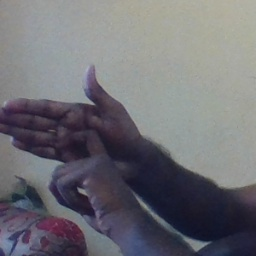R: (1, 54, 135, 210)
